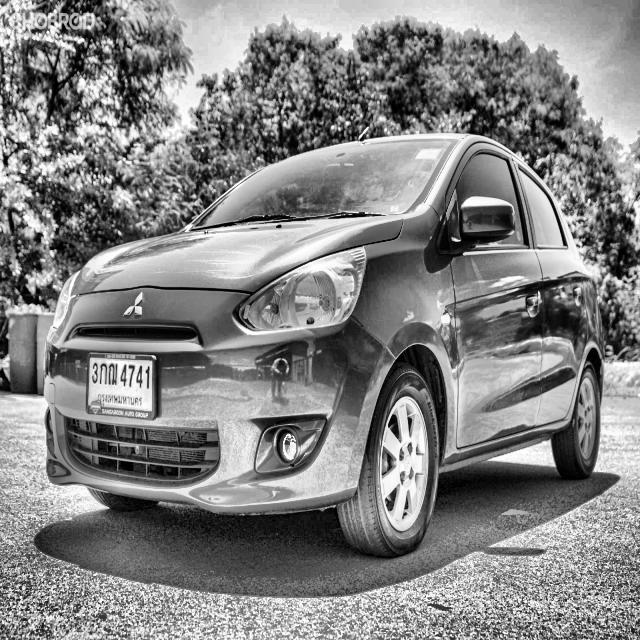license-plate: (88, 346, 157, 422)
